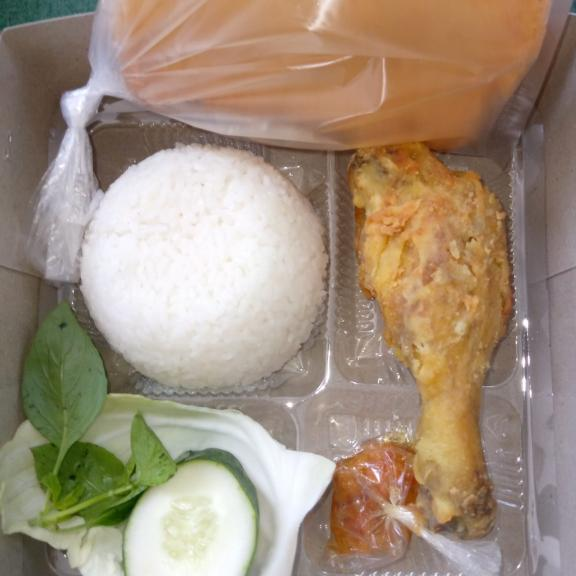buah_sayur_lainnya: (142, 484, 233, 558), (37, 326, 82, 430)
daging: (390, 176, 489, 343)
makanan_berpati: (133, 187, 273, 328)
